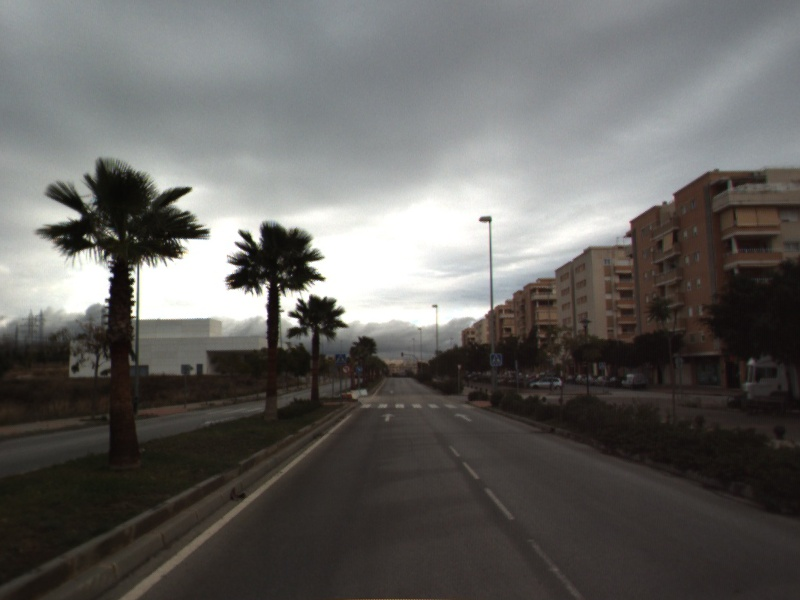STRAIGHT: (452, 411, 474, 423), (378, 411, 397, 424)
